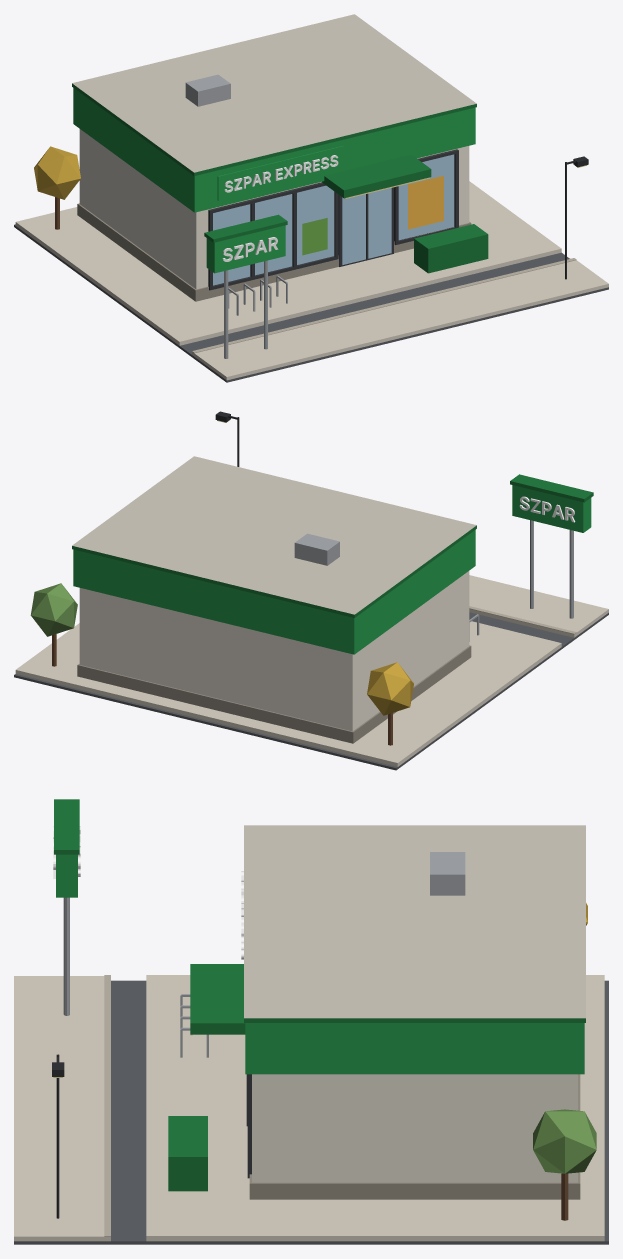
The model's file is Market_szpar_express_1_1_Hafif.fbx.
3 renders of one model, top to bottom at view 1: azimuth 30°, elevation 25°; view 2: azimuth 150°, elevation 25°; view 3: azimuth 270°, elevation 25°, orthographic. The views are drawn at different scales.
Visible parts, largest first — view 1: Market_szpar_express_1_1_Hafif; view 2: Market_szpar_express_1_1_Hafif; view 3: Market_szpar_express_1_1_Hafif.
Boxes of the visible parts, bbox=[...] form: Market_szpar_express_1_1_Hafif: bbox=[14, 14, 608, 382]; Market_szpar_express_1_1_Hafif: bbox=[14, 411, 608, 770]; Market_szpar_express_1_1_Hafif: bbox=[14, 799, 608, 1244].
Size of the model in its own units: 14 by 5.35 by 13.5.
